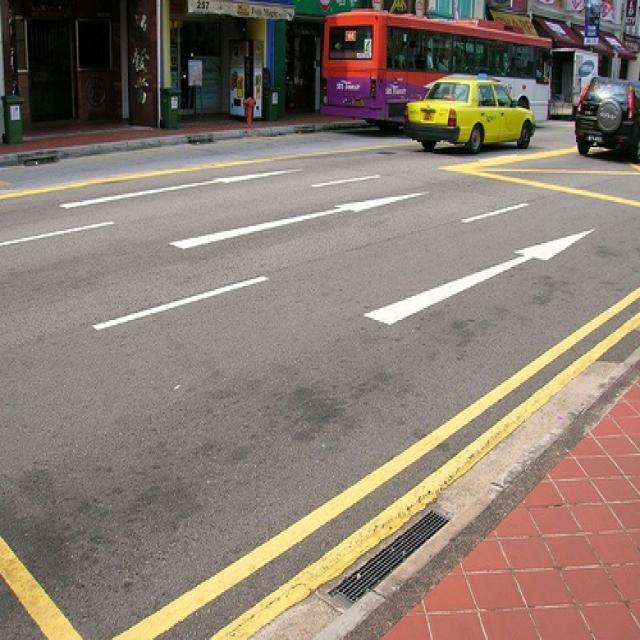bus: (318, 9, 552, 135)
car: (407, 75, 536, 156), (573, 75, 639, 159)
